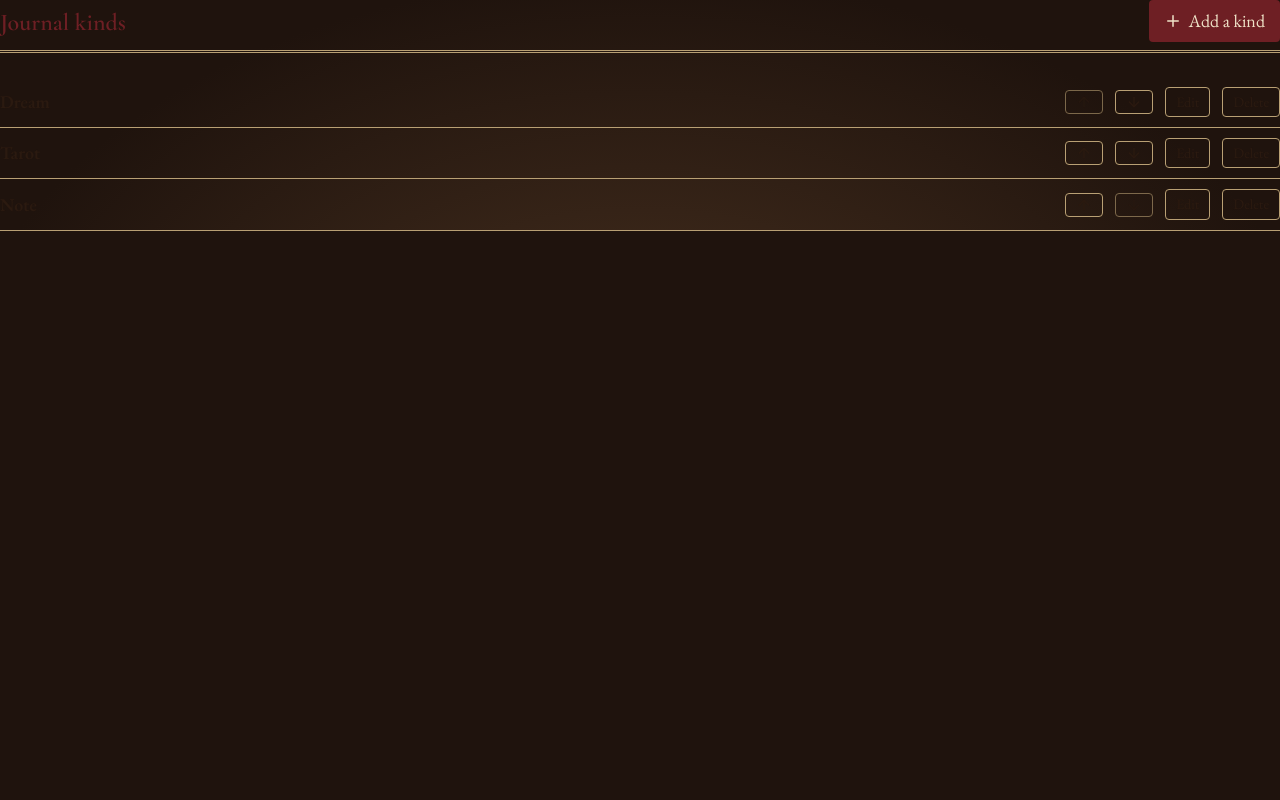
it: JournalKinds › shows how many entries use a kind
Click the button "Delete" in the row of "Tarot" at (1251, 153), box [1222, 138, 1279, 168]
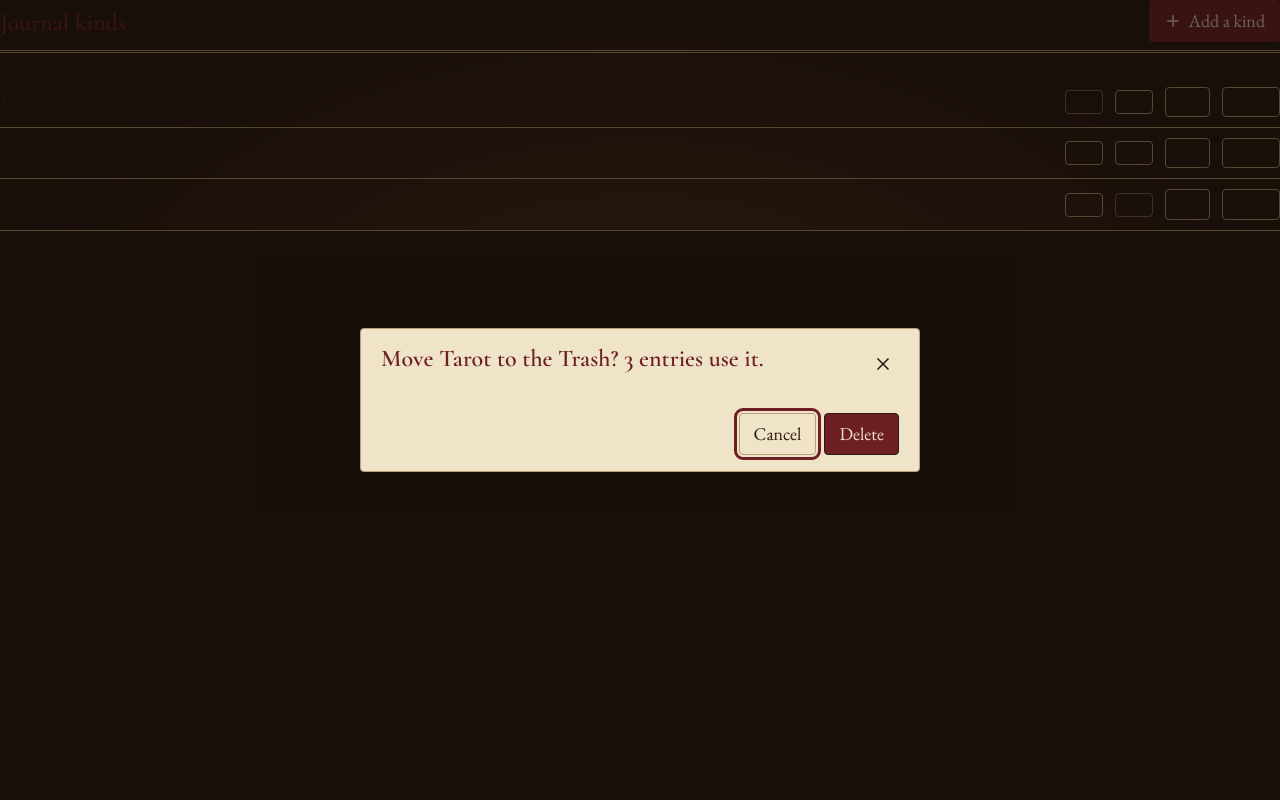
Result: the heading "Move Tarot to the Trash? 3 entries use it." is shown at [381, 345, 764, 374]
